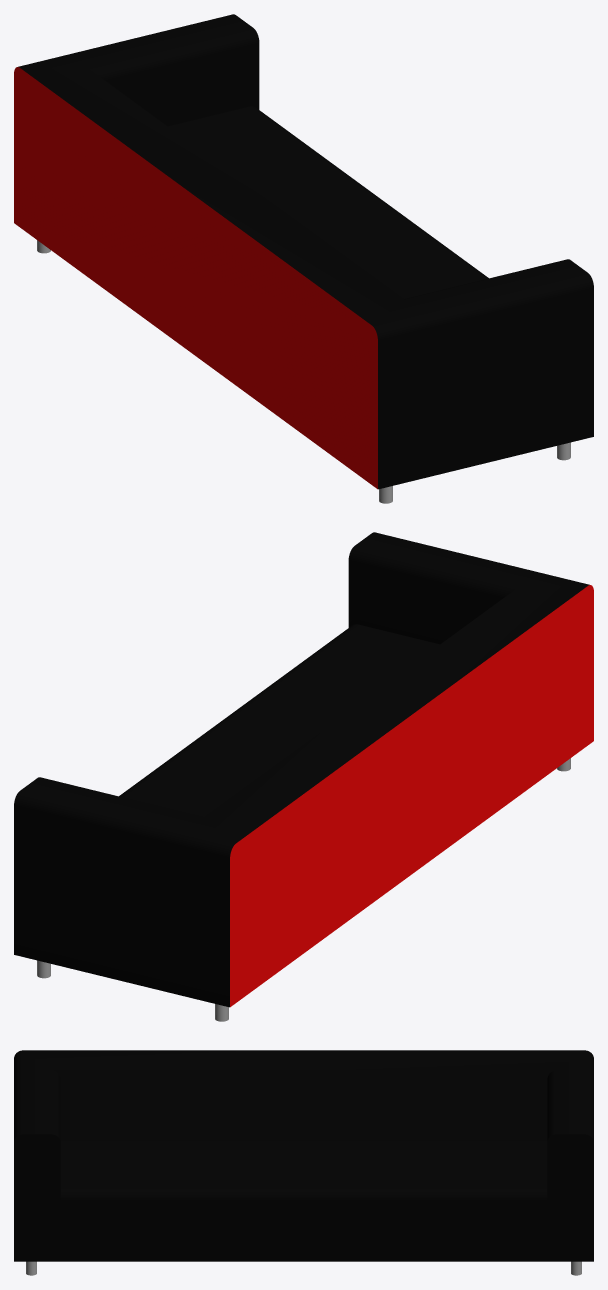
The model's file is klippan_sofa_1_obj0_object.obj.
3 views of the same model, one above another, from view 1: azimuth 30°, elevation 25°; view 2: azimuth 150°, elevation 25°; view 3: azimuth 270°, elevation 25° (orthographic). The views are drawn at different scales.
Parts seen in each view (by area): view 1: Mesh1 Model; view 2: Mesh1 Model; view 3: Mesh1 Model.
Boxes of the visible parts, left/top/right/bottom form: Mesh1 Model: left=14, top=14, right=593, bottom=503; Mesh1 Model: left=14, top=532, right=593, bottom=1021; Mesh1 Model: left=14, top=1050, right=593, bottom=1275.
Size of the model in its own units: 850 by 690 by 2480.
